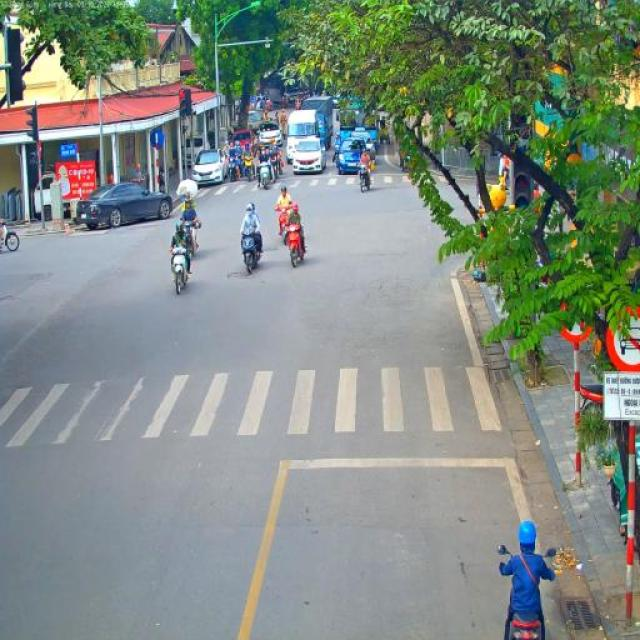car: (74, 181, 174, 230), (336, 135, 373, 175), (292, 135, 326, 175), (191, 150, 225, 186), (349, 127, 377, 163), (258, 120, 282, 152), (256, 96, 272, 110)
motorcycle: (496, 544, 556, 640), (169, 245, 192, 295), (282, 222, 306, 268), (239, 230, 263, 274), (178, 221, 202, 261), (0, 214, 20, 252), (275, 206, 293, 246), (358, 163, 373, 193), (257, 160, 272, 190), (228, 152, 242, 182), (242, 156, 254, 182), (270, 157, 280, 182), (331, 143, 341, 167), (223, 155, 231, 180), (277, 152, 284, 176)
truck: (298, 96, 334, 152), (286, 110, 318, 164), (234, 128, 257, 162), (279, 77, 301, 111), (246, 110, 262, 140)
